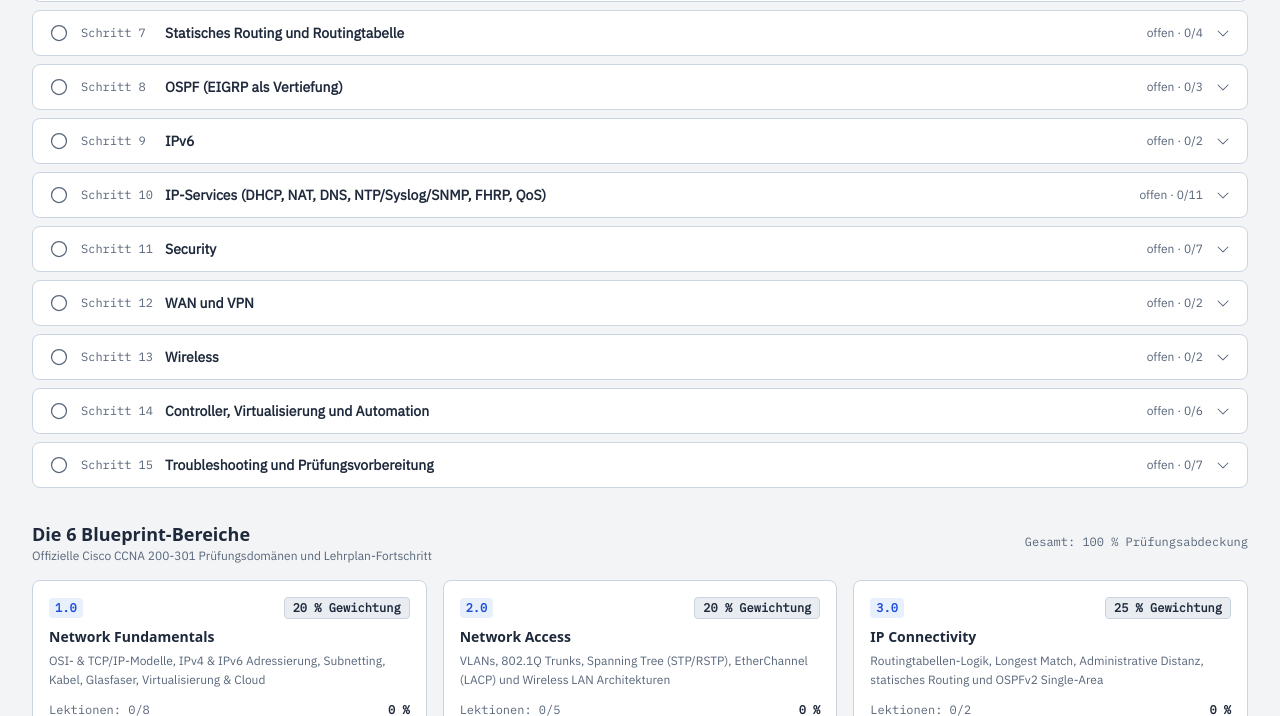
Test case: Dashboard: Lernpfad › Schritte ohne Lab sagen das sachlich (Wireless)
(page scrolled)
Click the button "Schritt 13 Wireless offen · 0/2". click: (110, 356)
box: x1=33 y1=334 x2=1247 y2=378
(page scrolled)
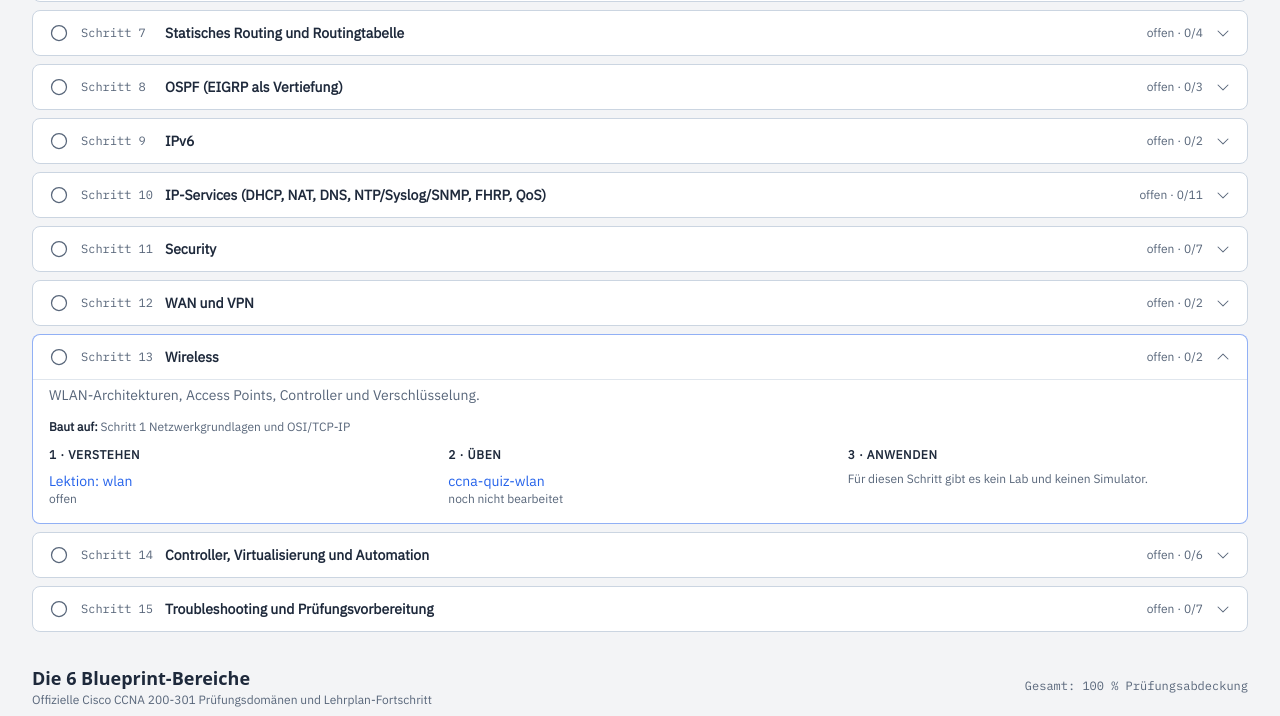
Expected: the text "Für diesen Schritt gibt es kein Lab und keinen Simulator." is shown, x1=848 y1=470 x2=1148 y2=486
